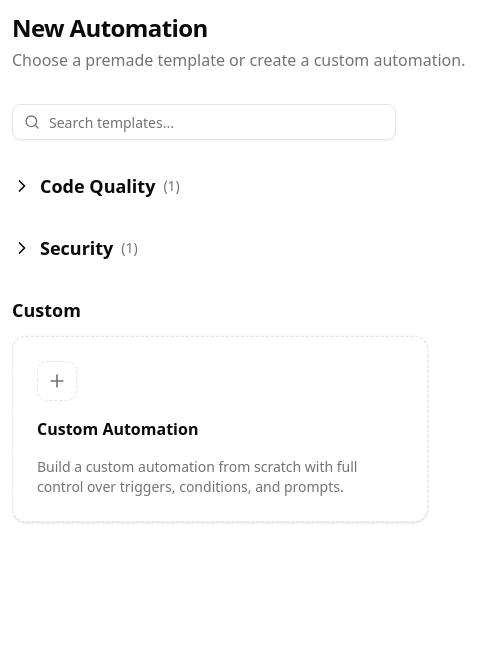
Test case: AutomationNewPage › should filter templates by name when searching
This screenshot has width=482, height=656.
Expected: the text "Code Quality" is shown, [40,172,155,200]
Type "security" into the field with placeholder "Search templates..." at (204, 122), box [12,104,396,140]
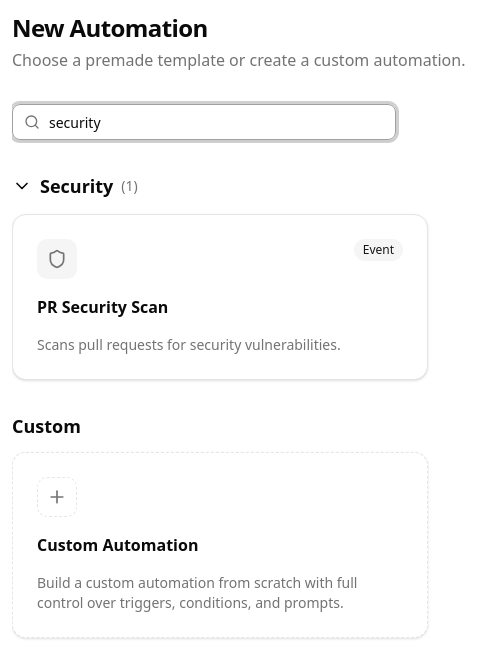
Expected: the text "Security" is shown, [40,172,113,200]
Result: the button "Code Quality" is gone
